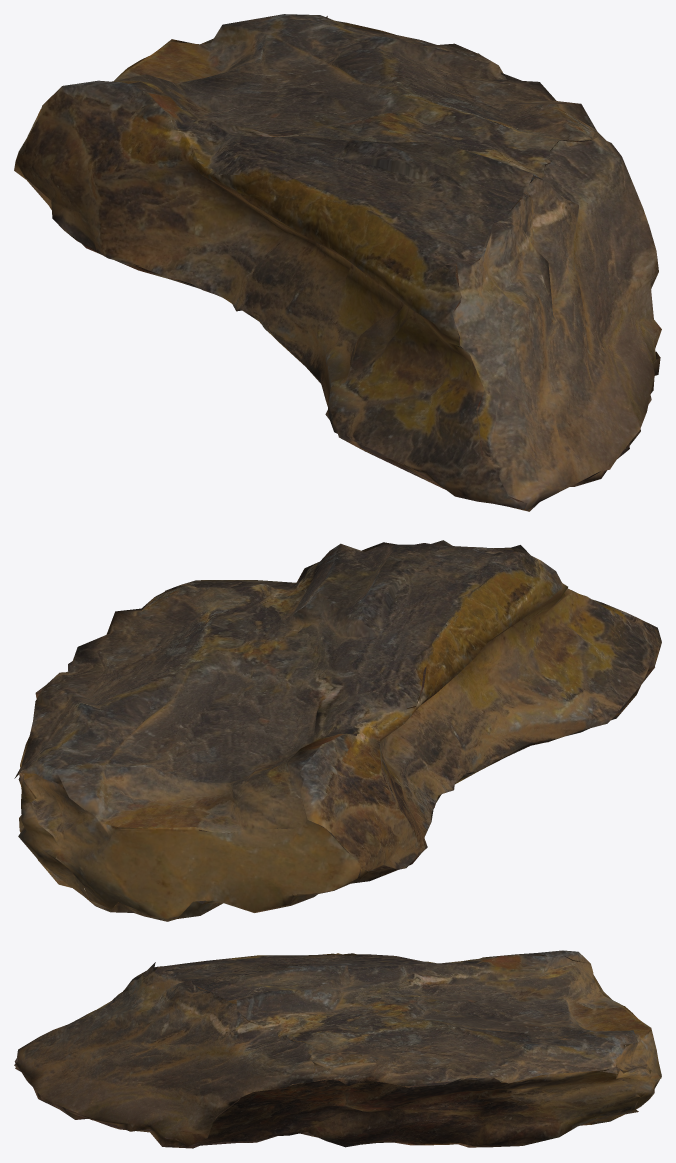
The model's file is pr_rock_09.fbx.
3 views of the same model, one above another, from view 1: azimuth 30°, elevation 25°; view 2: azimuth 150°, elevation 25°; view 3: azimuth 270°, elevation 25° (orthographic). The views are drawn at different scales.
Parts seen in each view (by area): view 1: pr_rock_09_LOD0; view 2: pr_rock_09_LOD0; view 3: pr_rock_09_LOD0.
Part boxes in pixels (x1,y1,x2,y2): pr_rock_09_LOD0: (14,14,661,511); pr_rock_09_LOD0: (14,540,661,921); pr_rock_09_LOD0: (14,950,661,1148).
Size of what is drawn, in the model's own units: 0.0742 by 0.0328 by 0.1447.
Materials: 1 (1 with a texture image).
